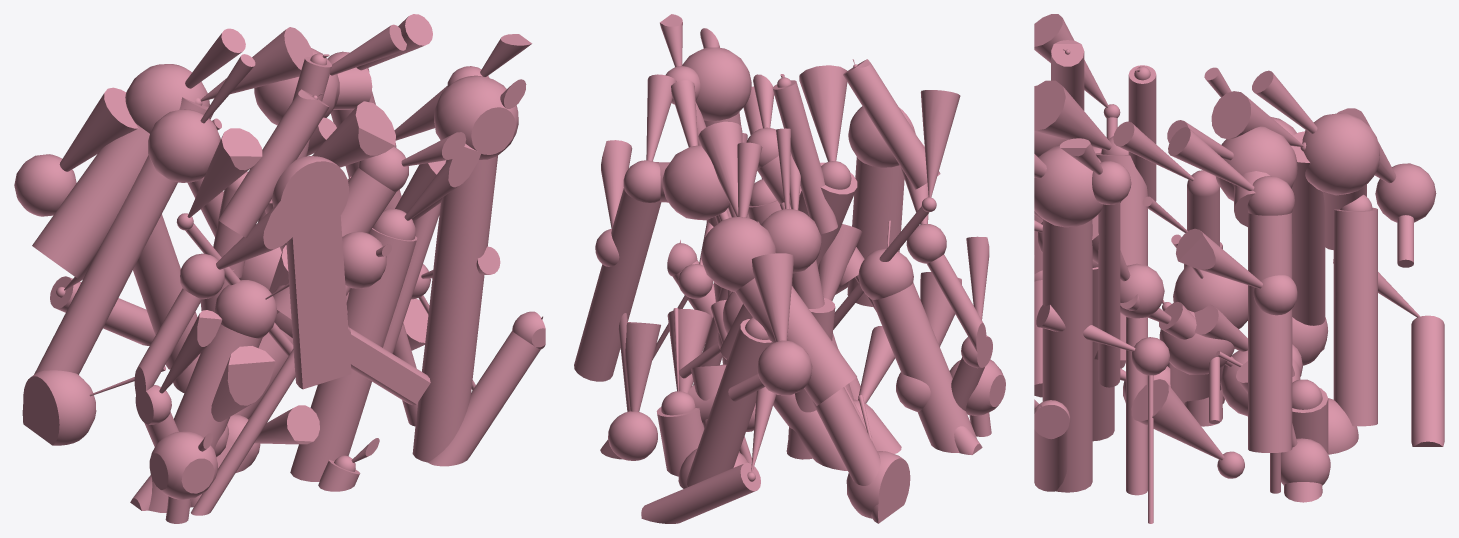
Rendered from asset.glb.
The picture shows the model from 3 angles, left to right: view 1: azimuth 30°, elevation 25°; view 2: azimuth 150°, elevation 25°; view 3: azimuth 270°, elevation 25°; orthographic projection. The views are drawn at different scales.
Parts seen in each view (by area): view 1: MODEL_6; view 2: MODEL_6; view 3: MODEL_6.
Boxes of the visible parts, left/top/right/bottom form: MODEL_6: left=14, top=14, right=545, bottom=523; MODEL_6: left=574, top=14, right=1005, bottom=523; MODEL_6: left=1034, top=14, right=1444, bottom=523.
Bounding box in the file's own units: 225 × 225 × 222.
